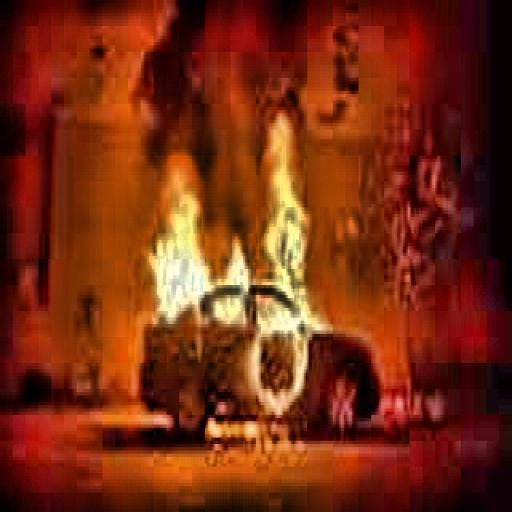fire: (141, 110, 331, 428)
